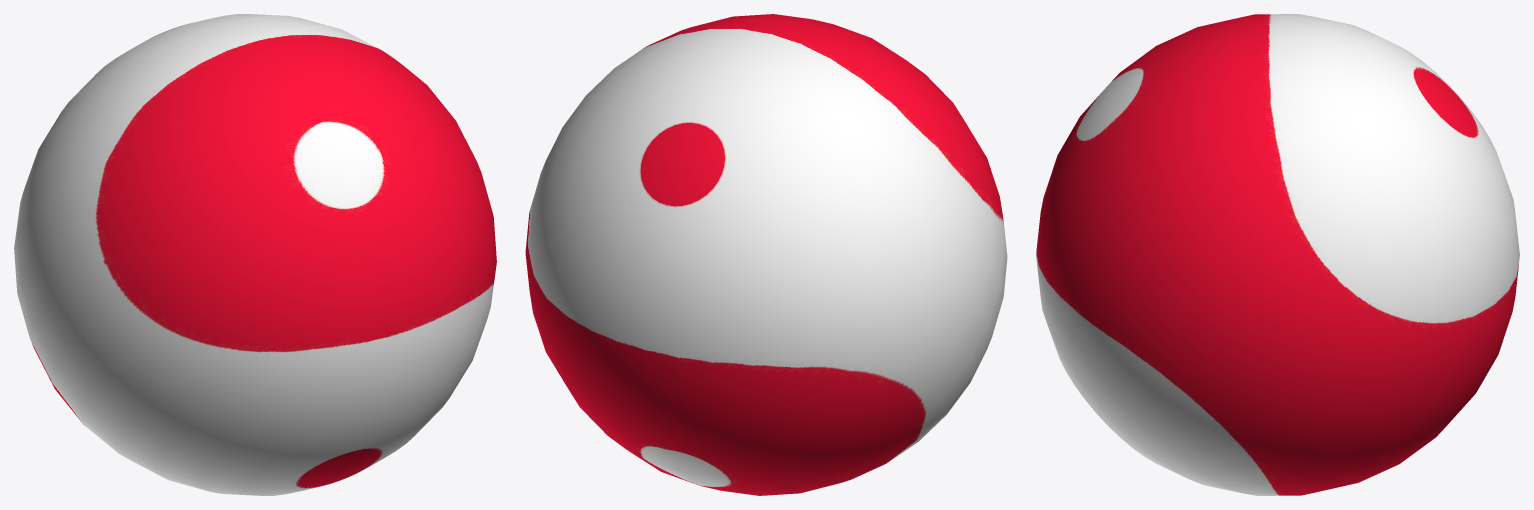
The model's file is yinyangball.glb.
The picture shows the model from 3 angles, left to right: view 1: azimuth 30°, elevation 25°; view 2: azimuth 150°, elevation 25°; view 3: azimuth 270°, elevation 25°; orthographic projection.
Visible parts, largest first — view 1: Sphere; view 2: Sphere; view 3: Sphere.
Boxes of the visible parts, bbox=[...] form: Sphere: bbox=[14, 14, 496, 495]; Sphere: bbox=[525, 14, 1007, 495]; Sphere: bbox=[1036, 14, 1519, 495].
Bounding box in the file's own units: 2 × 2 × 2.
Materials: 1 (1 with a texture image).
